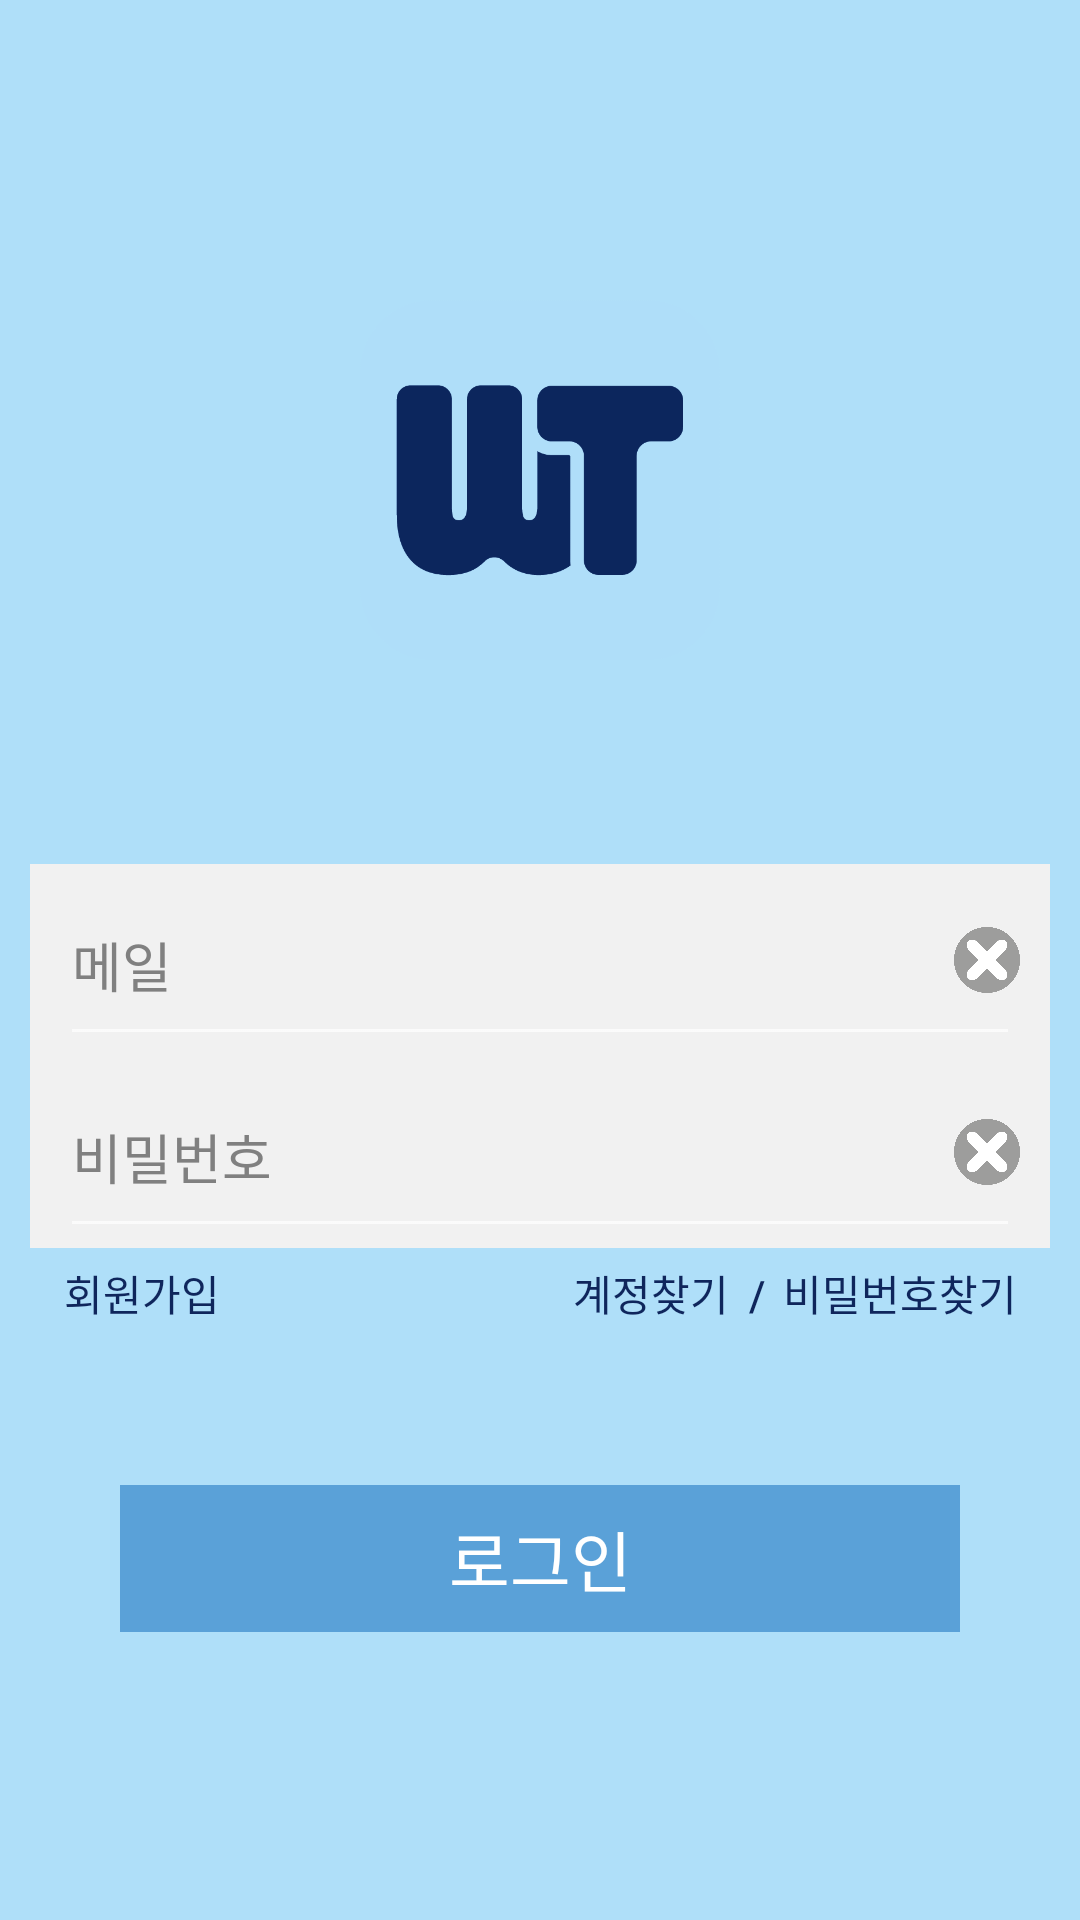

Where to tap for icons on this 1080px x 1920px app screen, as point (x, y):
all del: point (987, 960), point (987, 1152)
